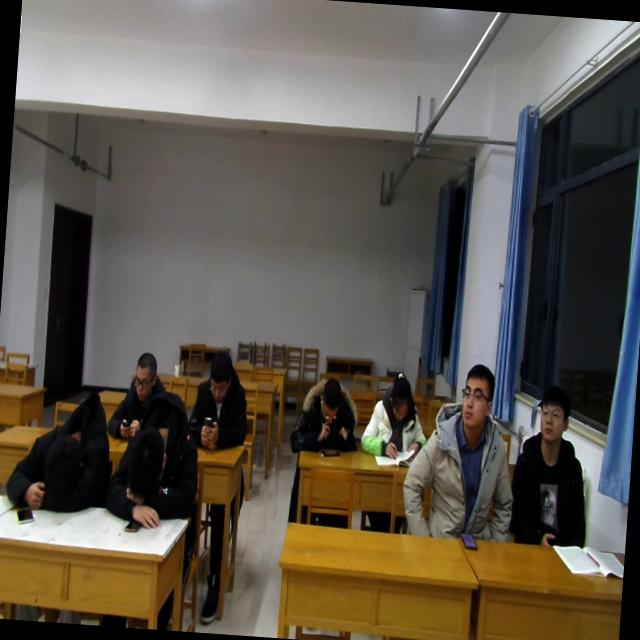bow: (3, 390, 123, 510), (106, 398, 200, 532)
down: (203, 344, 238, 403), (385, 372, 416, 428), (313, 371, 346, 423), (130, 346, 158, 405)
lookup: (457, 361, 497, 434), (532, 378, 572, 446)
sit: (400, 359, 520, 543), (512, 380, 594, 544), (289, 362, 362, 463), (190, 338, 252, 454), (358, 370, 428, 464), (104, 343, 166, 439)
